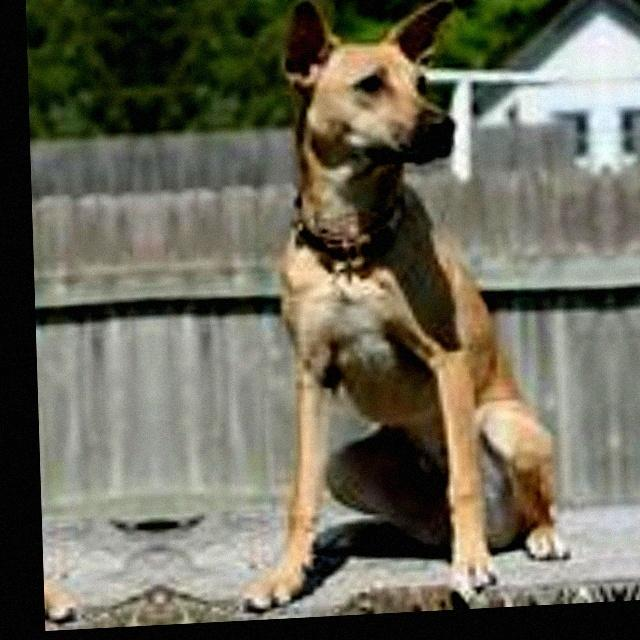dog: (158, 0, 560, 624), (27, 21, 144, 632)
